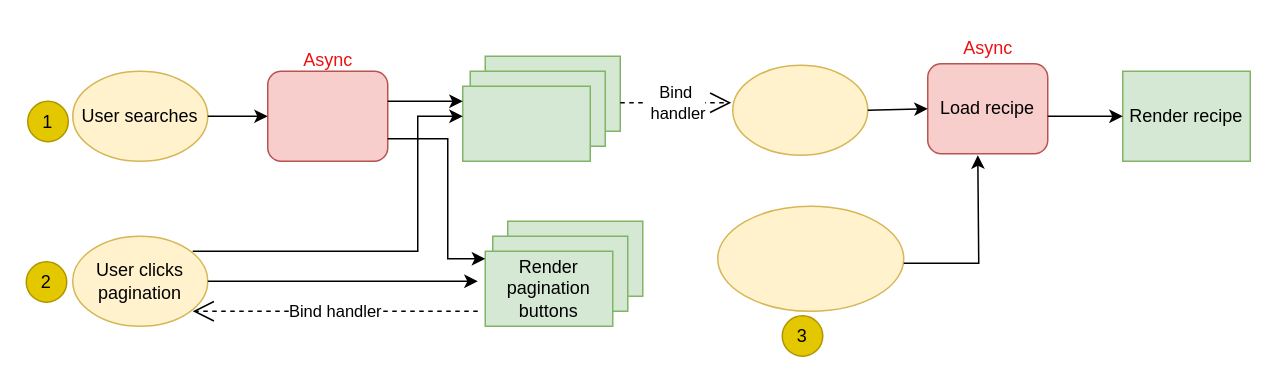
This 1277x383 diagram has some shape labels left out. Each missing label, with the centre of its shape:
"Load search results" belongs at (327,115).
"Render search results" belongs at (525,123).
"User loads the page with recipe ID" belongs at (810,258).
"User selects recipe" belongs at (799,109).
